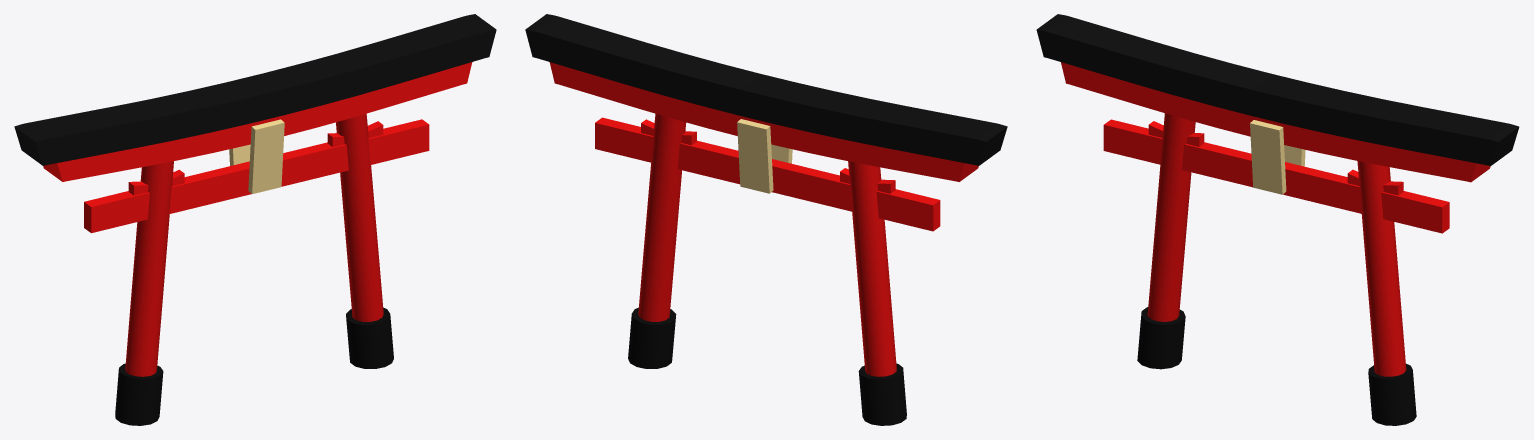
The model's file is ShrineGate.FBX.
3 views of the same model, side by side, from view 1: azimuth 30°, elevation 25°; view 2: azimuth 150°, elevation 25°; view 3: azimuth 330°, elevation 25° (orthographic).
Visible parts, largest first — view 1: Box005, Cylinder001, Box001, Box004, Box006; view 2: Box005, Cylinder001, Box001, Box004, Box007; view 3: Box005, Cylinder001, Box001, Box004, Box006.
Part boxes in pixels (x1,y1,x2,y2): Box005: (14, 14, 496, 165); Cylinder001: (115, 113, 393, 425); Box001: (84, 119, 429, 233); Box004: (43, 62, 472, 181); Box006: (248, 119, 284, 194); Box005: (525, 14, 1007, 165); Cylinder001: (628, 113, 906, 425); Box001: (595, 117, 940, 231); Box004: (549, 62, 978, 181); Box007: (737, 119, 773, 193); Box005: (1036, 14, 1519, 166); Cylinder001: (1137, 113, 1416, 425); Box001: (1103, 119, 1449, 233); Box004: (1061, 62, 1490, 182); Box006: (1250, 120, 1286, 194).
Size of the model in its own units: 149 by 96.13 by 15.7.
